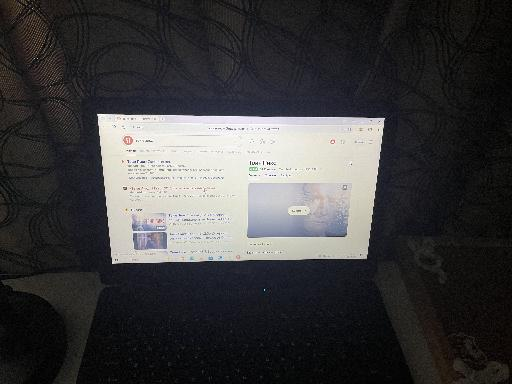yandex: (102, 133, 379, 254)
